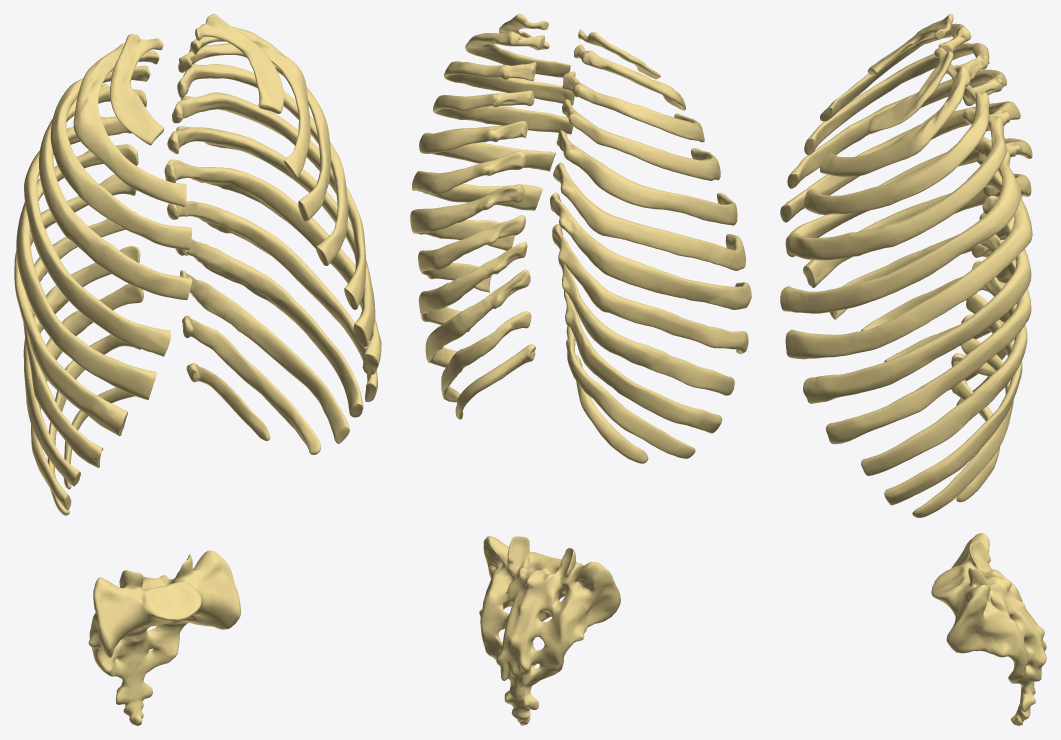
3 views of the same model, side by side, from view 1: azimuth 30°, elevation 25°; view 2: azimuth 150°, elevation 25°; view 3: azimuth 270°, elevation 25° (orthographic). The views are drawn at different scales.
Parts seen in each view (by area): view 1: spine-trunk:sacrum:isa:FJ3393, spine-trunk:sixth-rib:isa:FJ3344, spine-trunk:fourth-rib:isa:FJ3340, spine-trunk:fifth-rib:isa:FJ3342, spine-trunk:third-rib:isa:FJ3338, spine-trunk:second-rib:isa:FJ3336, spine-trunk:seventh-rib:isa:FJ3234, spine-trunk:ninth-rib:isa:FJ3236, spine-trunk:eighth-rib:isa:FJ3235, spine-trunk:seventh-rib:isa:FJ3346, spine-trunk:tenth-rib:isa:FJ3225, spine-trunk:fifth-rib:isa:FJ3232 (+13 smaller); view 2: spine-trunk:sacrum:isa:FJ3393, spine-trunk:seventh-rib:isa:FJ3346, spine-trunk:sixth-rib:isa:FJ3344, spine-trunk:eighth-rib:isa:FJ3347, spine-trunk:ninth-rib:isa:FJ3348, spine-trunk:fifth-rib:isa:FJ3342, spine-trunk:tenth-rib:isa:FJ3330, spine-trunk:fifth-rib:isa:FJ3232, spine-trunk:fourth-rib:isa:FJ3231, spine-trunk:sixth-rib:isa:FJ3233, spine-trunk:seventh-rib:isa:FJ3234, spine-trunk:fourth-rib:isa:FJ3340 (+13 smaller); view 3: spine-trunk:sacrum:isa:FJ3393, spine-trunk:sixth-rib:isa:FJ3233, spine-trunk:fifth-rib:isa:FJ3232, spine-trunk:seventh-rib:isa:FJ3234, spine-trunk:fourth-rib:isa:FJ3231, spine-trunk:eighth-rib:isa:FJ3235, spine-trunk:third-rib:isa:FJ3230, spine-trunk:ninth-rib:isa:FJ3236, spine-trunk:second-rib:isa:FJ3229, spine-trunk:tenth-rib:isa:FJ3225, spine-trunk:third-rib:isa:FJ3338, spine-trunk:fourth-rib:isa:FJ3340 (+11 smaller).
Boxes of the visible parts, box(x1,y1,x2,y2) form: spine-trunk:sacrum:isa:FJ3393: box(88, 550, 240, 725); spine-trunk:sixth-rib:isa:FJ3344: box(16, 144, 156, 399); spine-trunk:fourth-rib:isa:FJ3340: box(39, 83, 192, 299); spine-trunk:fifth-rib:isa:FJ3342: box(24, 116, 170, 356); spine-trunk:third-rib:isa:FJ3338: box(50, 65, 191, 249); spine-trunk:second-rib:isa:FJ3336: box(73, 43, 186, 206); spine-trunk:seventh-rib:isa:FJ3234: box(164, 159, 381, 374); spine-trunk:ninth-rib:isa:FJ3236: box(176, 239, 363, 417); spine-trunk:eighth-rib:isa:FJ3235: box(167, 201, 377, 401); spine-trunk:seventh-rib:isa:FJ3346: box(14, 174, 136, 436); spine-trunk:tenth-rib:isa:FJ3225: box(180, 270, 349, 443); spine-trunk:fifth-rib:isa:FJ3232: box(172, 92, 366, 309); spine-trunk:sacrum:isa:FJ3393: box(479, 536, 620, 725); spine-trunk:seventh-rib:isa:FJ3346: box(550, 192, 751, 309); spine-trunk:sixth-rib:isa:FJ3344: box(553, 162, 745, 270); spine-trunk:eighth-rib:isa:FJ3347: box(552, 224, 748, 353); spine-trunk:ninth-rib:isa:FJ3348: box(558, 255, 734, 395); spine-trunk:fifth-rib:isa:FJ3342: box(556, 130, 737, 225); spine-trunk:tenth-rib:isa:FJ3330: box(564, 290, 722, 433); spine-trunk:fifth-rib:isa:FJ3232: box(419, 121, 555, 171); spine-trunk:fourth-rib:isa:FJ3231: box(433, 90, 573, 134); spine-trunk:sixth-rib:isa:FJ3233: box(412, 151, 542, 210); spine-trunk:seventh-rib:isa:FJ3234: box(410, 183, 524, 250); spine-trunk:fourth-rib:isa:FJ3340: box(562, 99, 720, 180); spine-trunk:sacrum:isa:FJ3393: box(931, 533, 1046, 725); spine-trunk:sixth-rib:isa:FJ3233: box(785, 171, 1032, 359); spine-trunk:fifth-rib:isa:FJ3232: box(780, 136, 1020, 313); spine-trunk:seventh-rib:isa:FJ3234: box(803, 195, 1031, 403); spine-trunk:fourth-rib:isa:FJ3231: box(787, 108, 1006, 260); spine-trunk:eighth-rib:isa:FJ3235: box(826, 234, 1031, 444); spine-trunk:third-rib:isa:FJ3230: box(804, 84, 989, 214); spine-trunk:ninth-rib:isa:FJ3236: box(861, 261, 1027, 475); spine-trunk:second-rib:isa:FJ3229: box(820, 64, 971, 176); spine-trunk:tenth-rib:isa:FJ3225: box(884, 293, 1022, 505); spine-trunk:third-rib:isa:FJ3338: box(804, 43, 989, 155); spine-trunk:fourth-rib:isa:FJ3340: box(787, 69, 1006, 188).
Size of the model in its own units: 0.2729 by 0.5876 by 0.2049.
